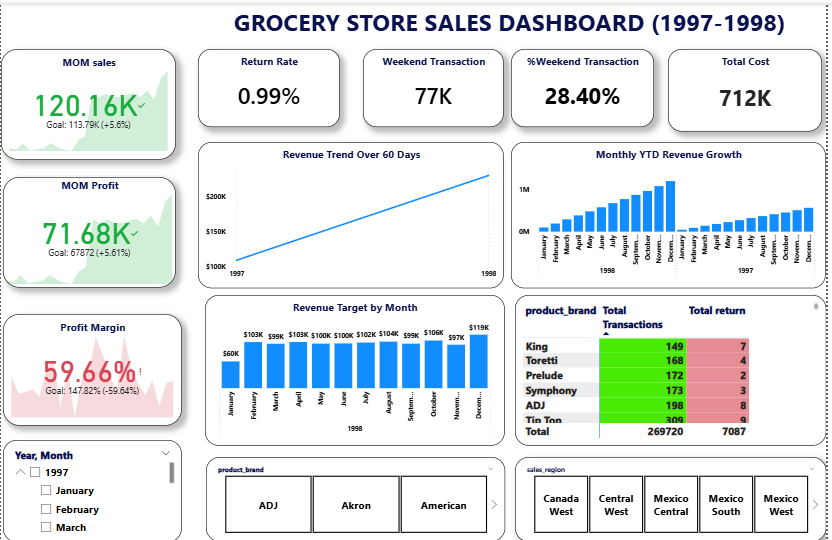

This screenshot's page, from the dashboard's own definition file:
{"tool":"powerbi","page":{"name":"Page 2","canvas":[1500,1000],"ordinal":1},"visuals":[{"type":"textbox","box":[358,0,1134,70],"z":0},{"type":"card","title":"Return Rate","fields":{"Values":["Returns_Data.Return Rate"]},"box":[358,84,258,142],"z":1000},{"type":"card","title":"Weekend Transaction","fields":{"Values":["Grocery_Transactions.Weekend Transactions"]},"box":[658,84,256,142],"z":2000},{"type":"card","title":"%Weekend Transaction","fields":{"Values":["Grocery_Transactions.% Weekend Transactions"]},"box":[928,84,260,142],"z":3000},{"type":"kpi","title":"MOM sales","fields":{"Indicator":["Grocery_Transactions.Total Revenue"],"TrendLine":["Calendar.Start of Month"],"Goal":["Calendar.Last Month Revenue"]},"box":[0,83.8,318.4,201.1],"z":4000},{"type":"card","title":"Total Cost","fields":{"Values":["Products.Total Cost"]},"box":[1212,84,280,150],"z":5000},{"type":"kpi","title":"MOM Profit","fields":{"Indicator":["Products.Total Profit"],"TrendLine":["Calendar.Start of Month"],"Goal":["Calendar.Last Month Profit"]},"box":[4.2,316.3,314.2,201.1],"z":6000},{"type":"kpi","title":"Profit Margin","fields":{"Indicator":["Products.Profit Margin"],"TrendLine":["Calendar.Start of Month"],"Goal":["Products.Profit %"]},"box":[4.2,565.6,324.7,203.2],"z":7000},{"type":"pivotTable","fields":{"Rows":["Products.product_brand"],"Values":["Grocery_Transactions.Total Transactions","Returns_Data.Total return"]},"box":[934.4,530,565.6,274.4],"z":8000},{"type":"columnChart","title":"Revenue Target by  Month","fields":{"Category":["Calendar.date.Variation.Date Hierarchy.Year","Calendar.date.Variation.Date Hierarchy.Month"],"Y":["Products.Revenue Target"]},"box":[370.8,530,544.7,274.4],"z":9000},{"type":"lineChart","title":"Revenue Trend Over 60 Days","fields":{"Category":["Calendar.date.Variation.Date Hierarchy.Year","Calendar.date.Variation.Date Hierarchy.Quarter","Calendar.date.Variation.Date Hierarchy.Month","Calendar.date.Variation.Date Hierarchy.Day"],"Y":["Products.60-Day Revenue"]},"box":[358,252,556,266],"z":10000},{"type":"columnChart","title":"Monthly YTD Revenue Growth","fields":{"Category":["Calendar.Start of Month.Variation.Date Hierarchy.Year","Calendar.Start of Month.Variation.Date Hierarchy.Month"],"Y":["Products.YTD Revenue"]},"box":[928,252,572,266],"z":11000},{"type":"slicer","fields":{"Values":["Calendar.date.Variation.Date Hierarchy.Year","Calendar.date.Variation.Date Hierarchy.Month"]},"box":[4.2,794,324.7,186.5],"z":12000},{"type":"slicer","fields":{"Values":["Regions.sales_region"]},"box":[934,826,566,154],"z":13000},{"type":"slicer","fields":{"Values":["Products.product_brand"]},"box":[372,826,544,154],"z":13001}]}

Visuals, with their boxes in screenshot pixels (x1, y1, x2, y2), scaled from the page's 1500x1000 canvas onto the 832x540 screenshot:
textbox: bbox(199, 0, 828, 38)
"Return Rate" card: bbox(199, 45, 342, 122)
"Weekend Transaction" card: bbox(365, 45, 507, 122)
"%Weekend Transaction" card: bbox(515, 45, 659, 122)
"MOM sales" kpi: bbox(0, 45, 177, 154)
"Total Cost" card: bbox(672, 45, 828, 126)
"MOM Profit" kpi: bbox(2, 171, 177, 279)
"Profit Margin" kpi: bbox(2, 305, 182, 415)
pivotTable - Products.product_brand x Grocery_Transactions.Total Transactions: bbox(518, 286, 831, 434)
"Revenue Target by  Month" columnChart: bbox(206, 286, 508, 434)
"Revenue Trend Over 60 Days" lineChart: bbox(199, 136, 507, 280)
"Monthly YTD Revenue Growth" columnChart: bbox(515, 136, 831, 280)
slicer - Calendar.date.Variation.Date Hierarchy.Year x Calendar.date.Variation.Date Hierarchy.Month: bbox(2, 429, 182, 529)
slicer - Regions.sales_region: bbox(518, 446, 831, 529)
slicer - Products.product_brand: bbox(206, 446, 508, 529)
